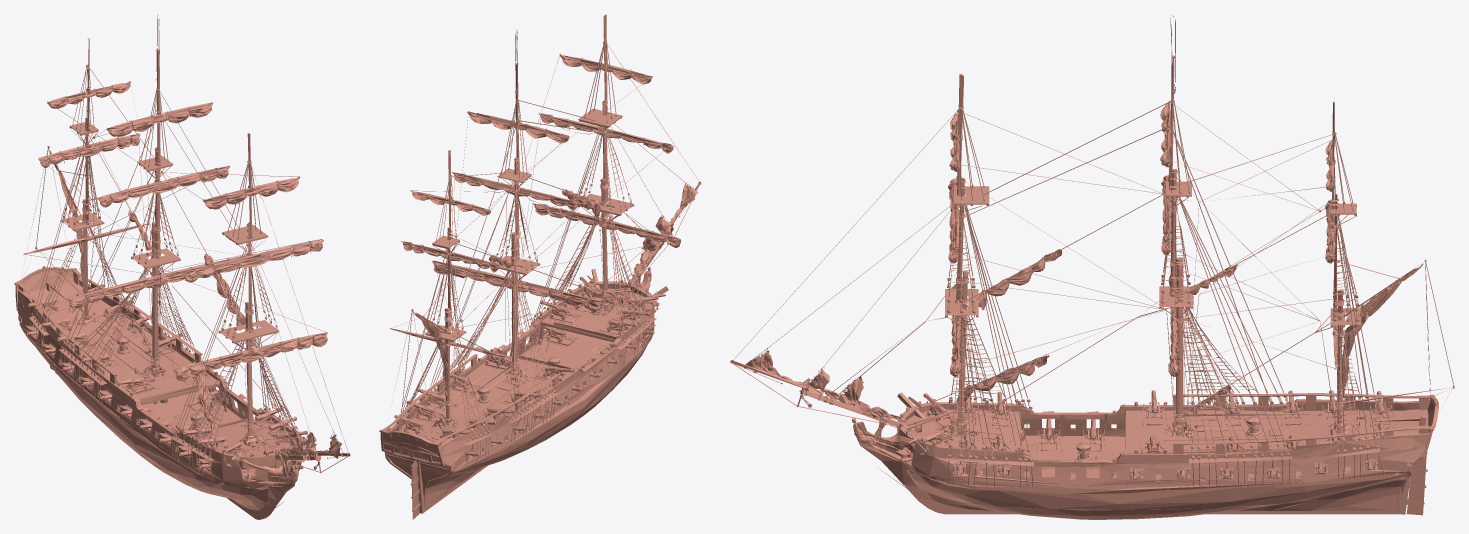
The model's file is aleksandr_optimized_light.glb.
3 renders of one model, left to right at view 1: azimuth 30°, elevation 25°; view 2: azimuth 150°, elevation 25°; view 3: azimuth 270°, elevation 25°, orthographic. The views are drawn at different scales.
Parts seen in each view (by area): view 1: Object_27, Object_33, Object_21, Object_39, Object_38, Object_22, Object_24, Object_8, Object_19, Object_23, Object_11, Object_41 (+5 smaller); view 2: Object_27, Object_33, Object_21, Object_38, Object_39, Object_22, Object_24, Object_8, Object_19, Object_11, Object_23, Object_41 (+5 smaller); view 3: Object_27, Object_38, Object_21, Object_22, Object_24, Object_33, Object_39, Object_25, Object_23, Object_19, Object_11, Object_8 (+3 smaller).
Boxes of the visible parts, bbox=[...] form: Object_27: bbox=[20, 14, 350, 510]; Object_33: bbox=[38, 82, 341, 458]; Object_21: bbox=[27, 19, 289, 478]; Object_39: bbox=[24, 38, 349, 459]; Object_38: bbox=[19, 270, 302, 503]; Object_22: bbox=[14, 122, 300, 506]; Object_24: bbox=[17, 299, 301, 483]; Object_8: bbox=[27, 284, 307, 468]; Object_19: bbox=[23, 81, 326, 480]; Object_23: bbox=[18, 290, 304, 474]; Object_11: bbox=[42, 302, 290, 455]; Object_41: bbox=[25, 282, 316, 473]; Object_27: bbox=[389, 29, 701, 442]; Object_33: bbox=[402, 55, 698, 400]; Object_21: bbox=[399, 36, 650, 457]; Object_38: bbox=[382, 283, 656, 519]; Object_39: bbox=[391, 14, 700, 473]; Object_22: bbox=[379, 108, 654, 508]; Object_24: bbox=[400, 289, 654, 470]; Object_8: bbox=[394, 276, 658, 456]; Object_19: bbox=[400, 56, 680, 511]; Object_11: bbox=[403, 285, 645, 458]; Object_23: bbox=[417, 282, 659, 456]; Object_41: bbox=[419, 268, 668, 467]; Object_27: bbox=[731, 15, 1454, 488]; Object_38: bbox=[902, 399, 1434, 515]; Object_21: bbox=[904, 28, 1428, 487]; Object_22: bbox=[856, 181, 1438, 510]; Object_24: bbox=[899, 409, 1425, 488]; Object_33: bbox=[746, 102, 1423, 422]; Object_39: bbox=[730, 55, 1448, 436]; Object_25: bbox=[857, 422, 1409, 519]; Object_23: bbox=[895, 399, 1429, 470]; Object_19: bbox=[797, 100, 1427, 504]; Object_11: bbox=[927, 402, 1390, 478]; Object_8: bbox=[921, 390, 1384, 479].
Size of the model in its own units: 18.3 by 42.09 by 55.22.
